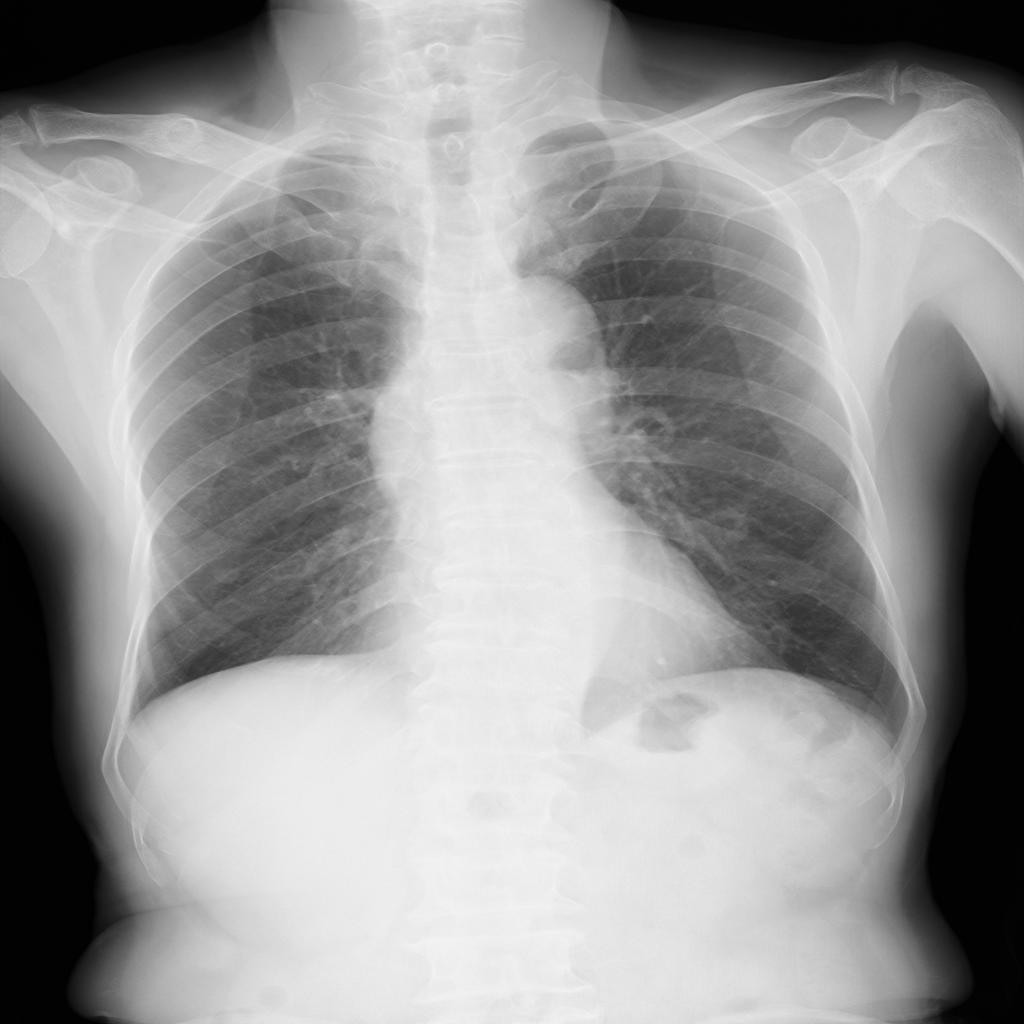Nodule: (211, 560, 242, 585)
